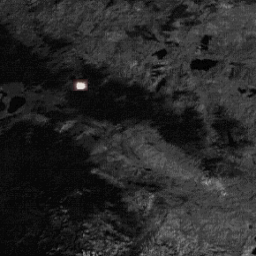Target: (75, 81, 86, 90)
